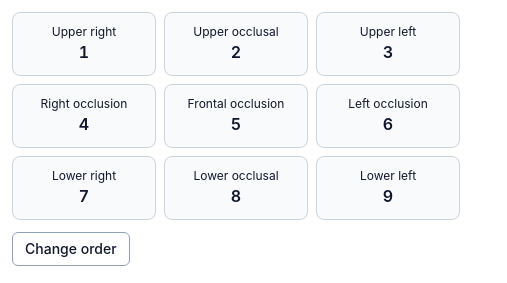
Scenario: ShootingOrderPicker › cancel keeps the order
Click the button "Change order": (71, 249) left=12, top=232, right=130, bottom=266
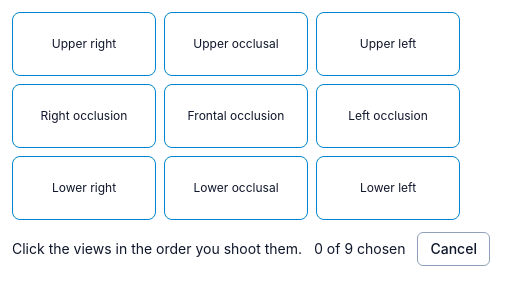
Click the button "Upper right": (84, 44) left=12, top=12, right=156, bottom=76
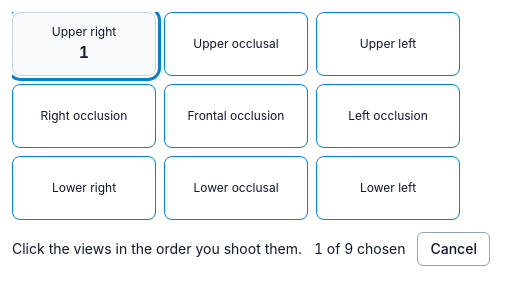
Click the button "Upper occlusal": (236, 44) left=164, top=12, right=308, bottom=76
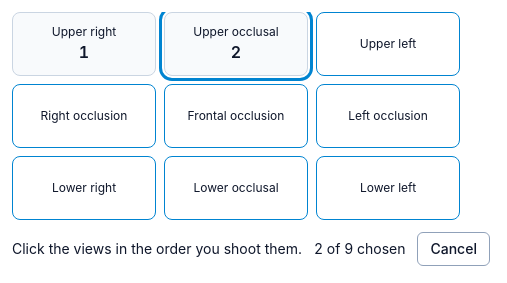
Click the button "Upper left": (388, 44) left=316, top=12, right=460, bottom=76
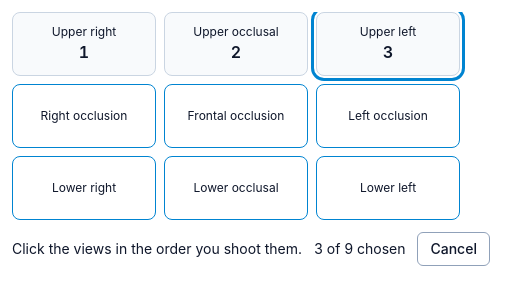
Click the button "Cancel": (454, 249) left=418, top=232, right=490, bottom=266
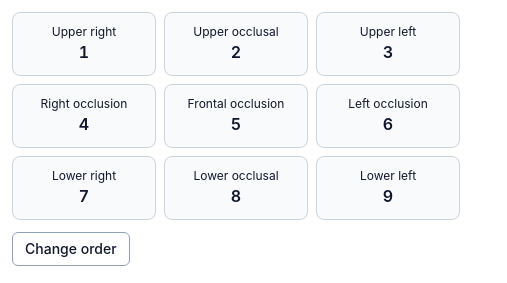
Result: the button "Change order" is shown at left=12, top=232, right=130, bottom=266
